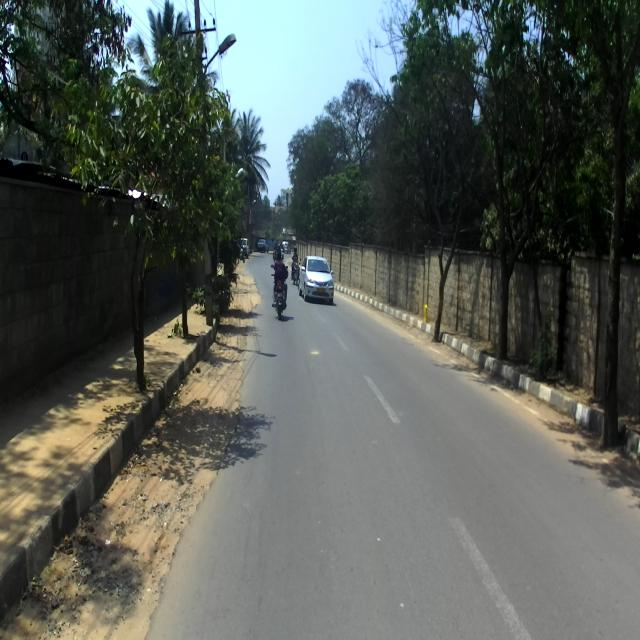car ahead at: (297, 253, 336, 300)
tree ahead at: (50, 79, 208, 381)
